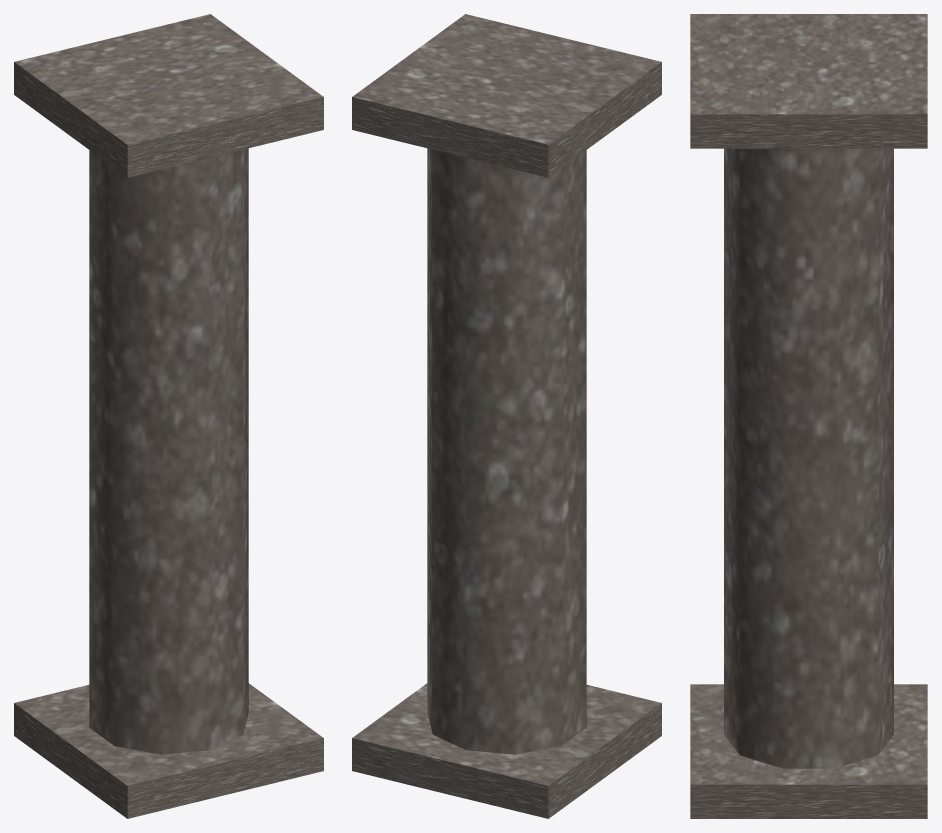
Rendered from column.fbx.
3 views of the same model, side by side, from view 1: azimuth 30°, elevation 25°; view 2: azimuth 150°, elevation 25°; view 3: azimuth 270°, elevation 25° (orthographic). The views are drawn at different scales.
Visible parts, largest first — view 1: column2; view 2: column2; view 3: column2.
Part boxes in pixels (left/top/right/bottom): column2: left=14, top=14, right=323, bottom=818; column2: left=352, top=14, right=661, bottom=818; column2: left=690, top=14, right=927, bottom=818.
Size of the model in its own units: 2 by 6.56 by 2.
